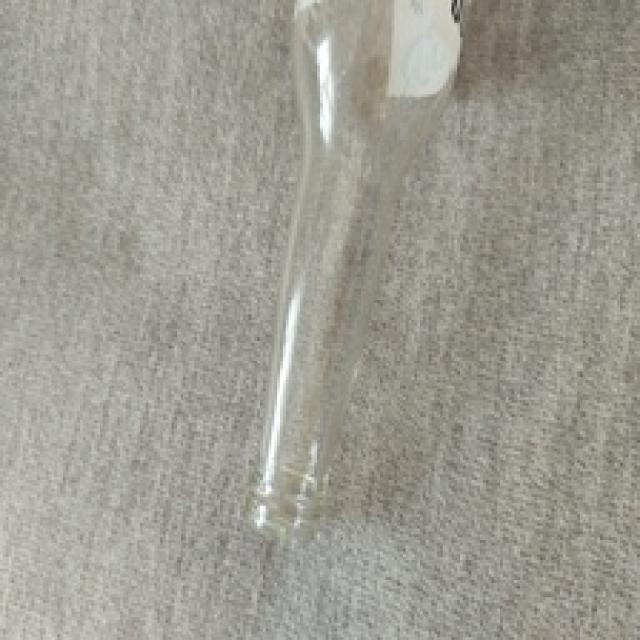Glass: (251, 0, 467, 553)
